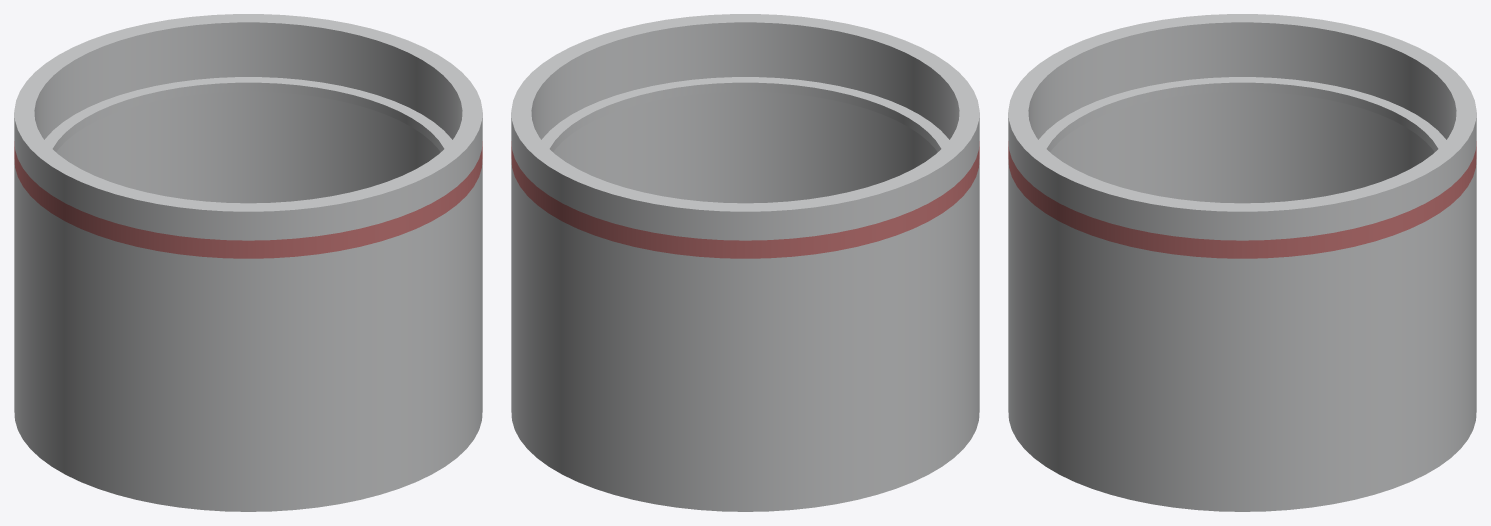
Rendered from step_03.glb.
The picture shows the model from 3 angles, left to right: view 1: azimuth 30°, elevation 25°; view 2: azimuth 150°, elevation 25°; view 3: azimuth 270°, elevation 25°; orthographic projection.
Visible parts, largest first — view 1: part__pod column, removed__pod column; view 2: part__pod column, removed__pod column; view 3: part__pod column, removed__pod column.
Part boxes in pixels (bbox=[...]): part__pod column: bbox=[14, 14, 482, 511]; removed__pod column: bbox=[14, 141, 482, 258]; part__pod column: bbox=[511, 14, 979, 511]; removed__pod column: bbox=[511, 141, 979, 258]; part__pod column: bbox=[1008, 14, 1476, 511]; removed__pod column: bbox=[1008, 141, 1476, 258].
Bounding box in the file's own units: 69.96 × 49.5 × 69.98.
